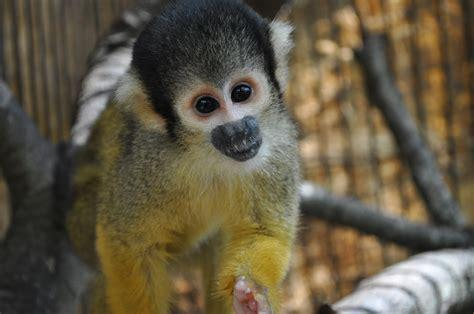monkey: (73, 1, 297, 314)
